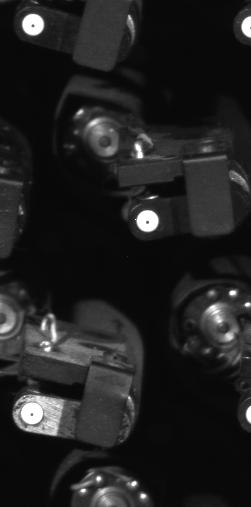fiber: (128, 201, 167, 240), (16, 9, 50, 39), (19, 399, 46, 429), (236, 8, 251, 44)
